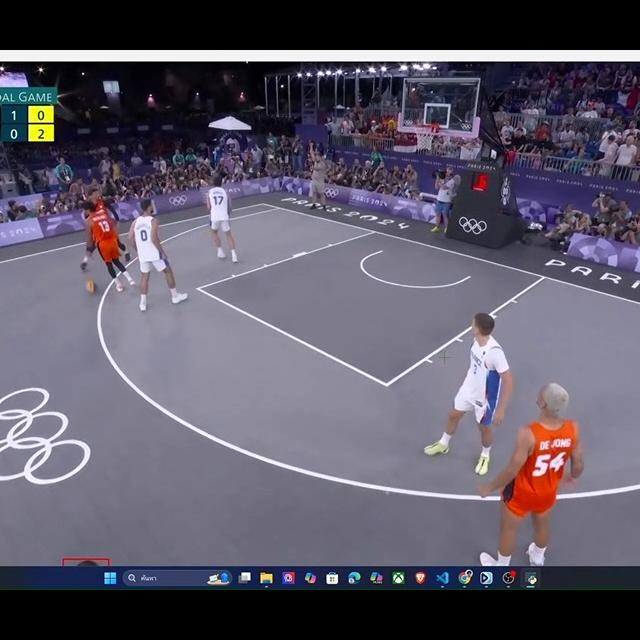basketball: (83, 280, 100, 295)
hoop: (415, 122, 436, 152)
